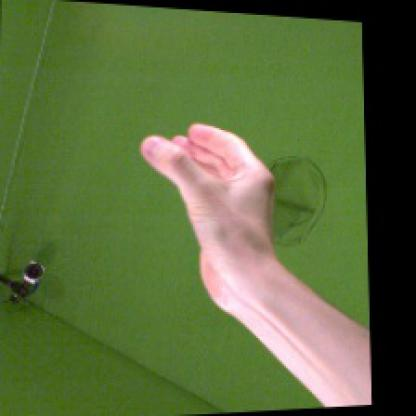Hand: (140, 122, 276, 314)
